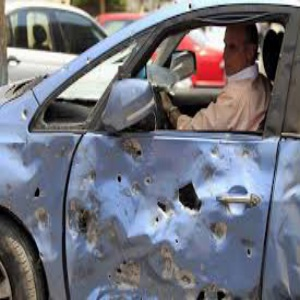door: (74, 153, 272, 300)
